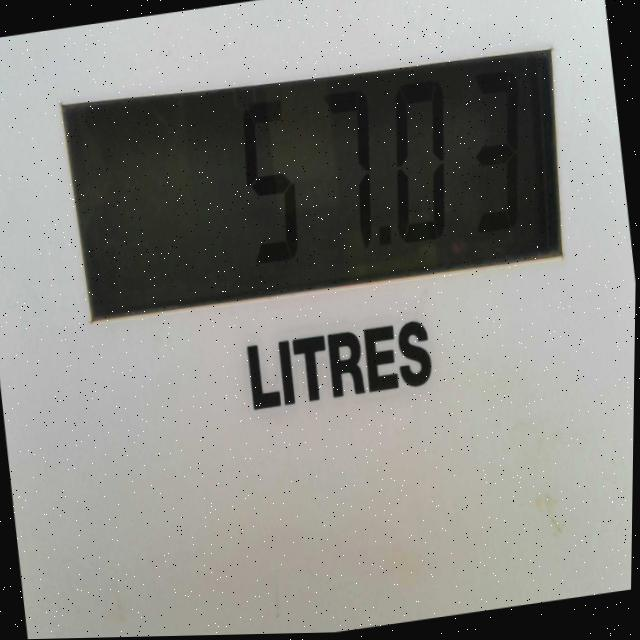.: (379, 223, 392, 248)
0: (385, 76, 453, 251)
3: (461, 68, 530, 231)
5: (237, 102, 304, 270)
7: (321, 88, 384, 253)
